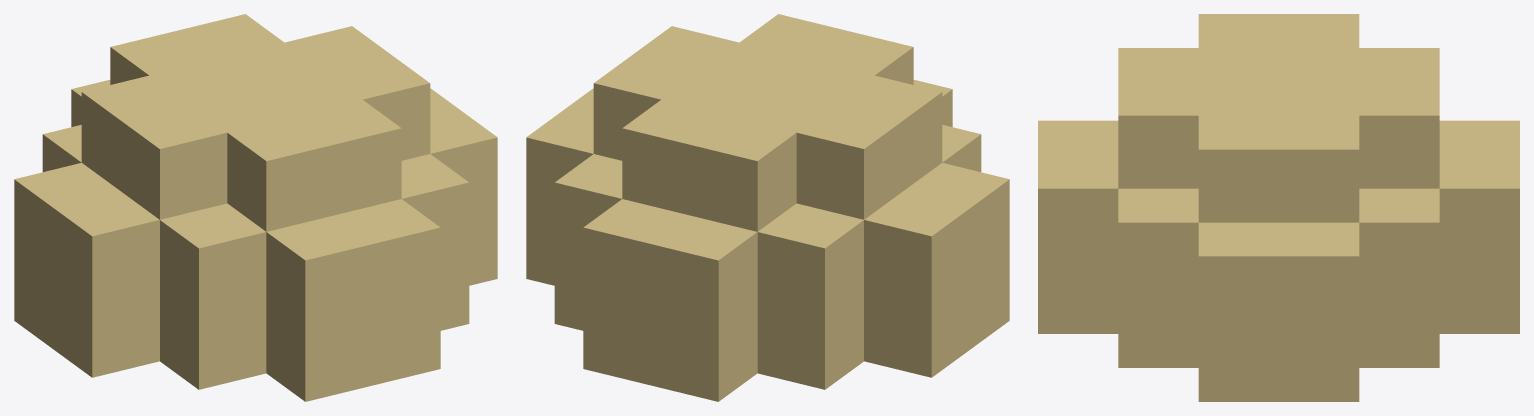
The model's file is wax.glb.
3 renders of one model, left to right at view 1: azimuth 30°, elevation 25°; view 2: azimuth 150°, elevation 25°; view 3: azimuth 270°, elevation 25°, orthographic. The views are drawn at different scales.
Visible parts, largest first — view 1: material:turnedStock; view 2: material:turnedStock; view 3: material:turnedStock.
Part boxes in pixels (x1=…): material:turnedStock: x1=14, y1=14, x2=497, y2=401; material:turnedStock: x1=526, y1=14, x2=1009, y2=401; material:turnedStock: x1=1038, y1=14, x2=1519, y2=401.
Size of the model in its own units: 0.06 by 0.03 by 0.06.
